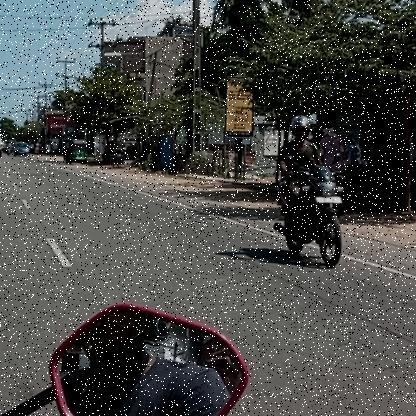motorcycle: (270, 164, 348, 270)
